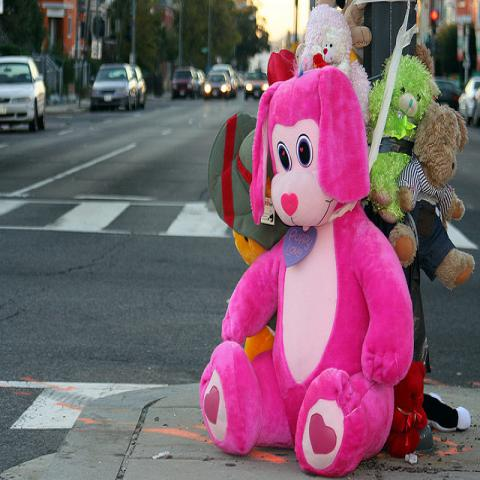car: (0, 56, 49, 132), (90, 62, 140, 112), (459, 75, 479, 125), (210, 62, 239, 94), (433, 79, 459, 112), (171, 66, 196, 99), (203, 70, 232, 98), (244, 73, 270, 102), (131, 64, 147, 110), (194, 68, 206, 97)
